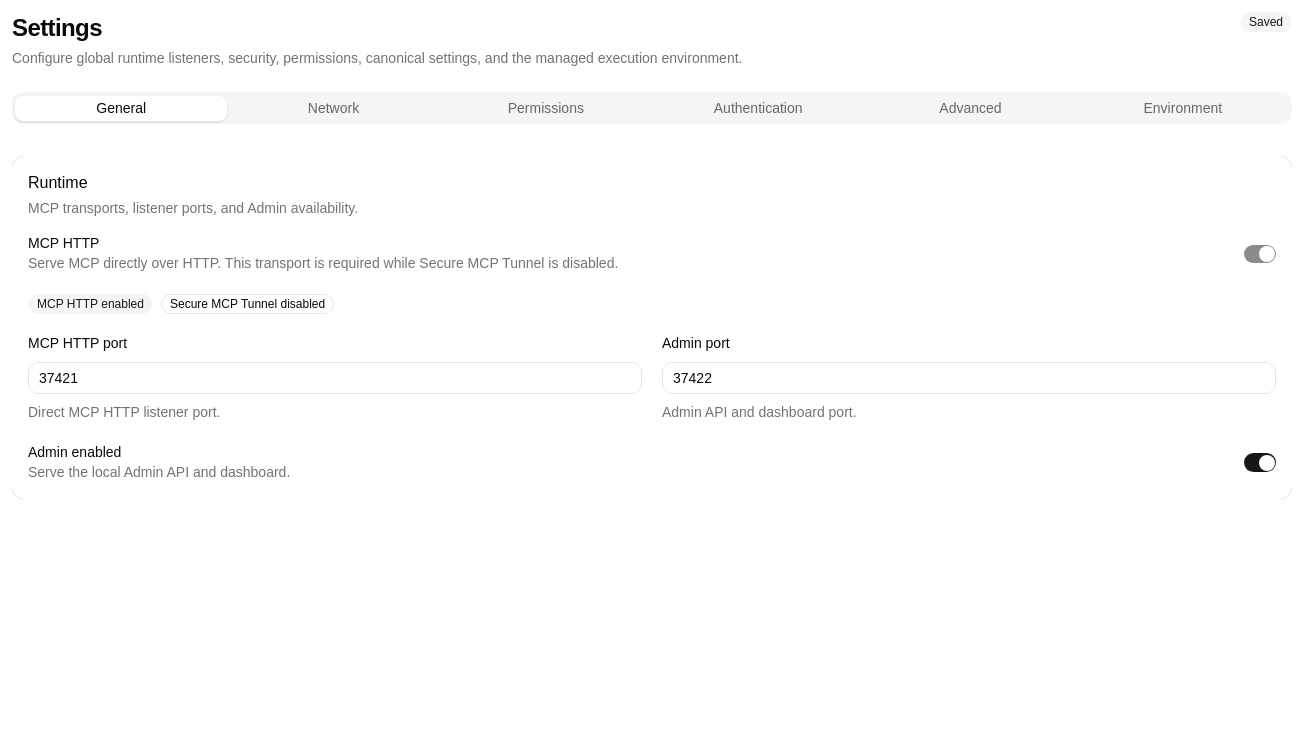
it: settings authentication › rotates a credential through the canonical auth operation and bounds the reveal lifecycle
This screenshot has width=1304, height=732.
Click the tab "Authentication" at point(758, 108), box [652,96,864,120]
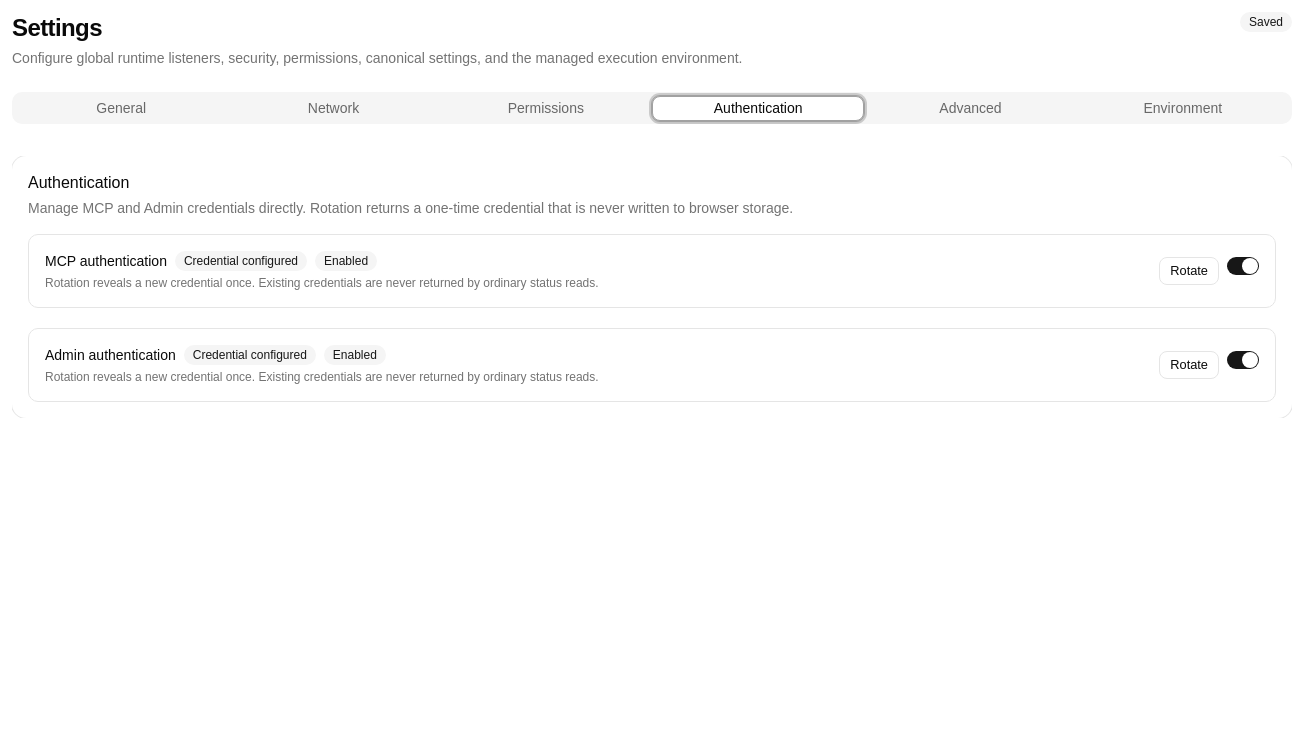
Check: the text "MCP authentication" is shown, box [45,251,167,271]
Click the button "Rotate" in the row of "MCP authentication" at point(1189, 271), box [1159,257,1219,285]
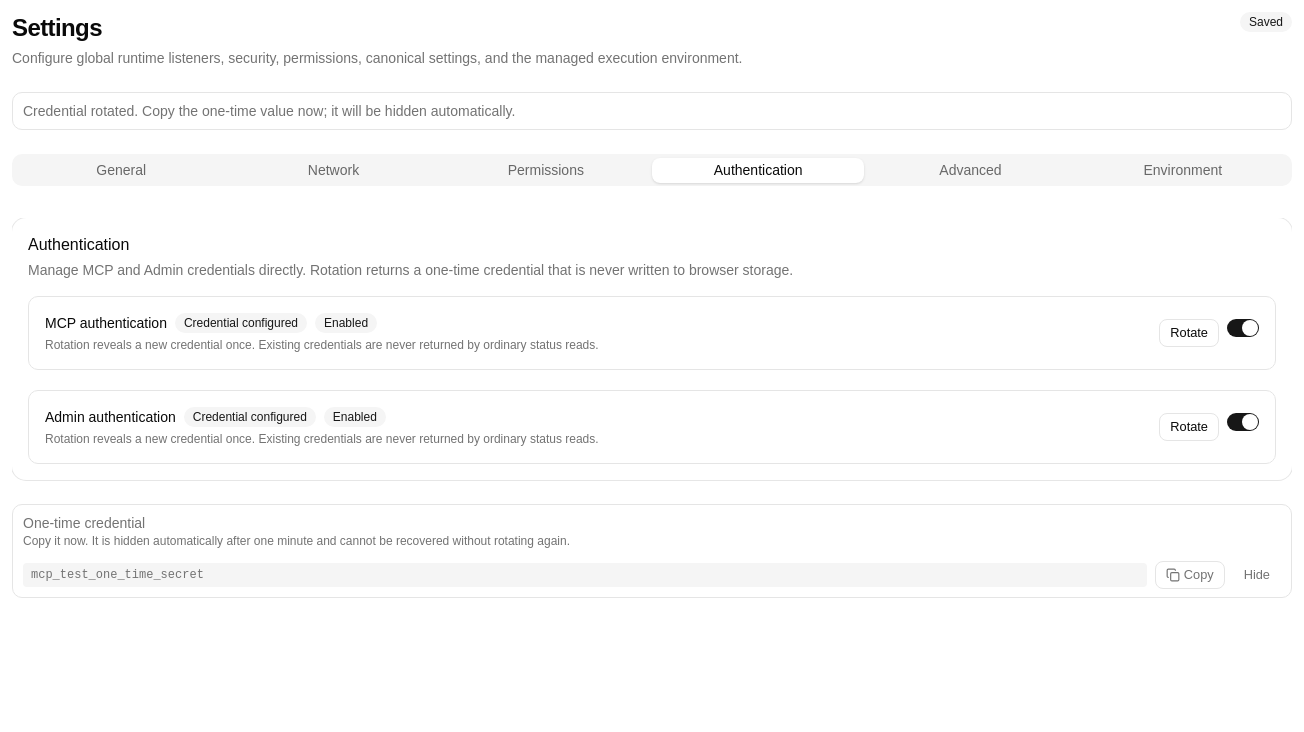
Check: the text "One-time credential" is shown, box [23,515,145,531]
Check: the text "mcp_test_one_time_secret" is shown, box [23,563,1147,587]
Click the button "Hide" at point(1257, 575), box [1233,561,1281,589]
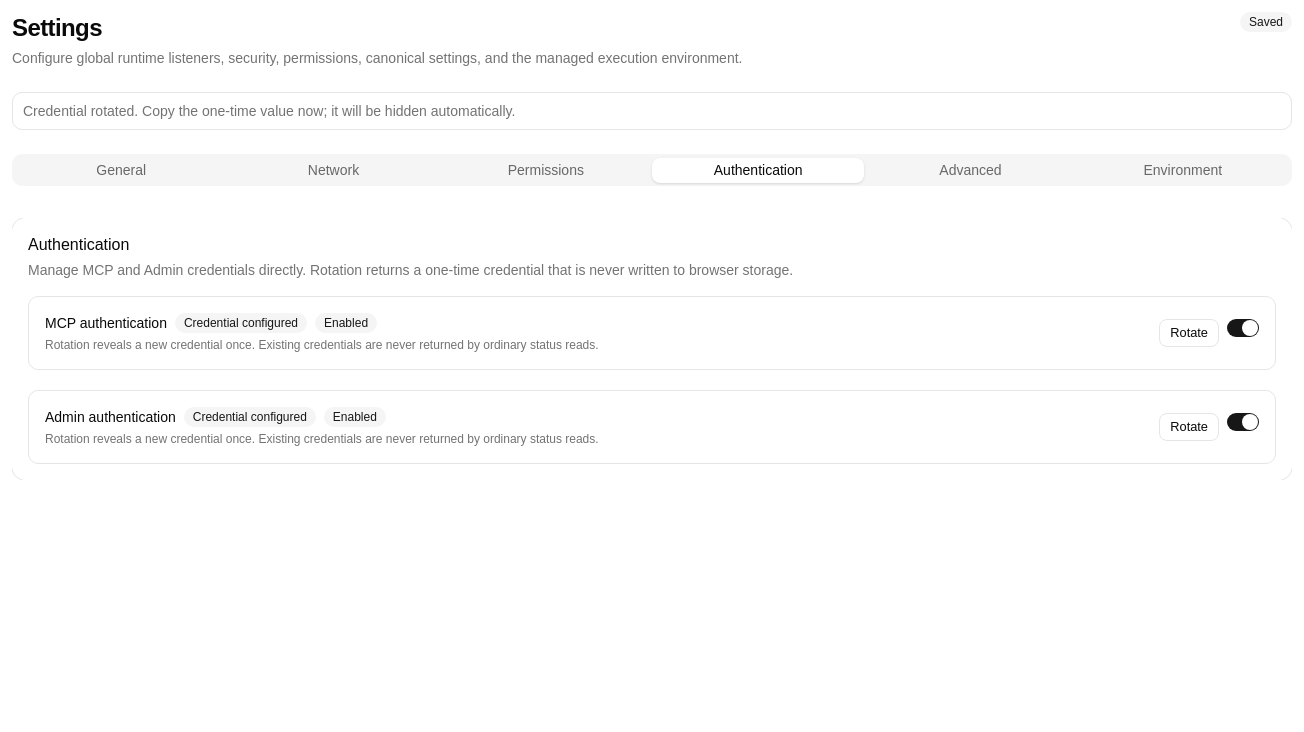
Check: the text "mcp_test_one_time_secret" is gone
